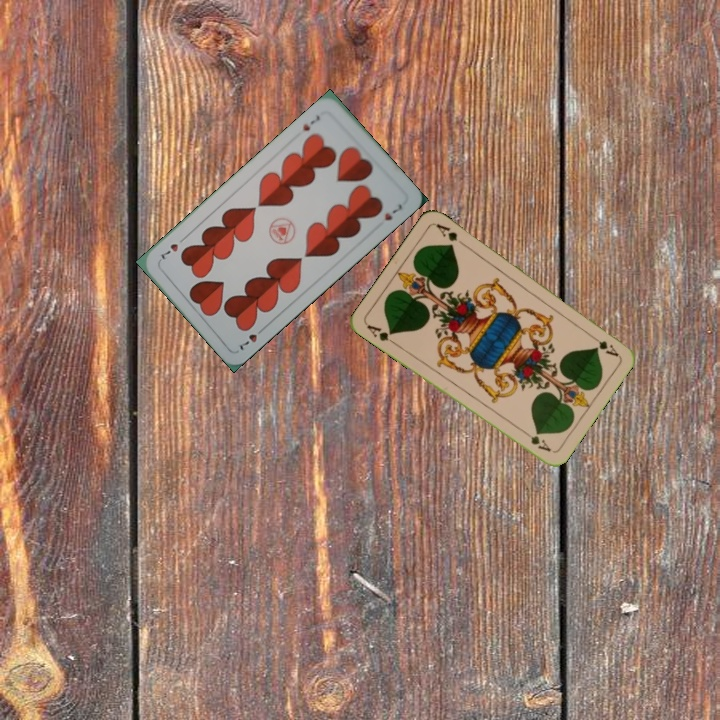GA: (362, 320, 399, 348), (586, 330, 621, 359)
H7: (235, 323, 268, 353), (299, 111, 323, 134)
